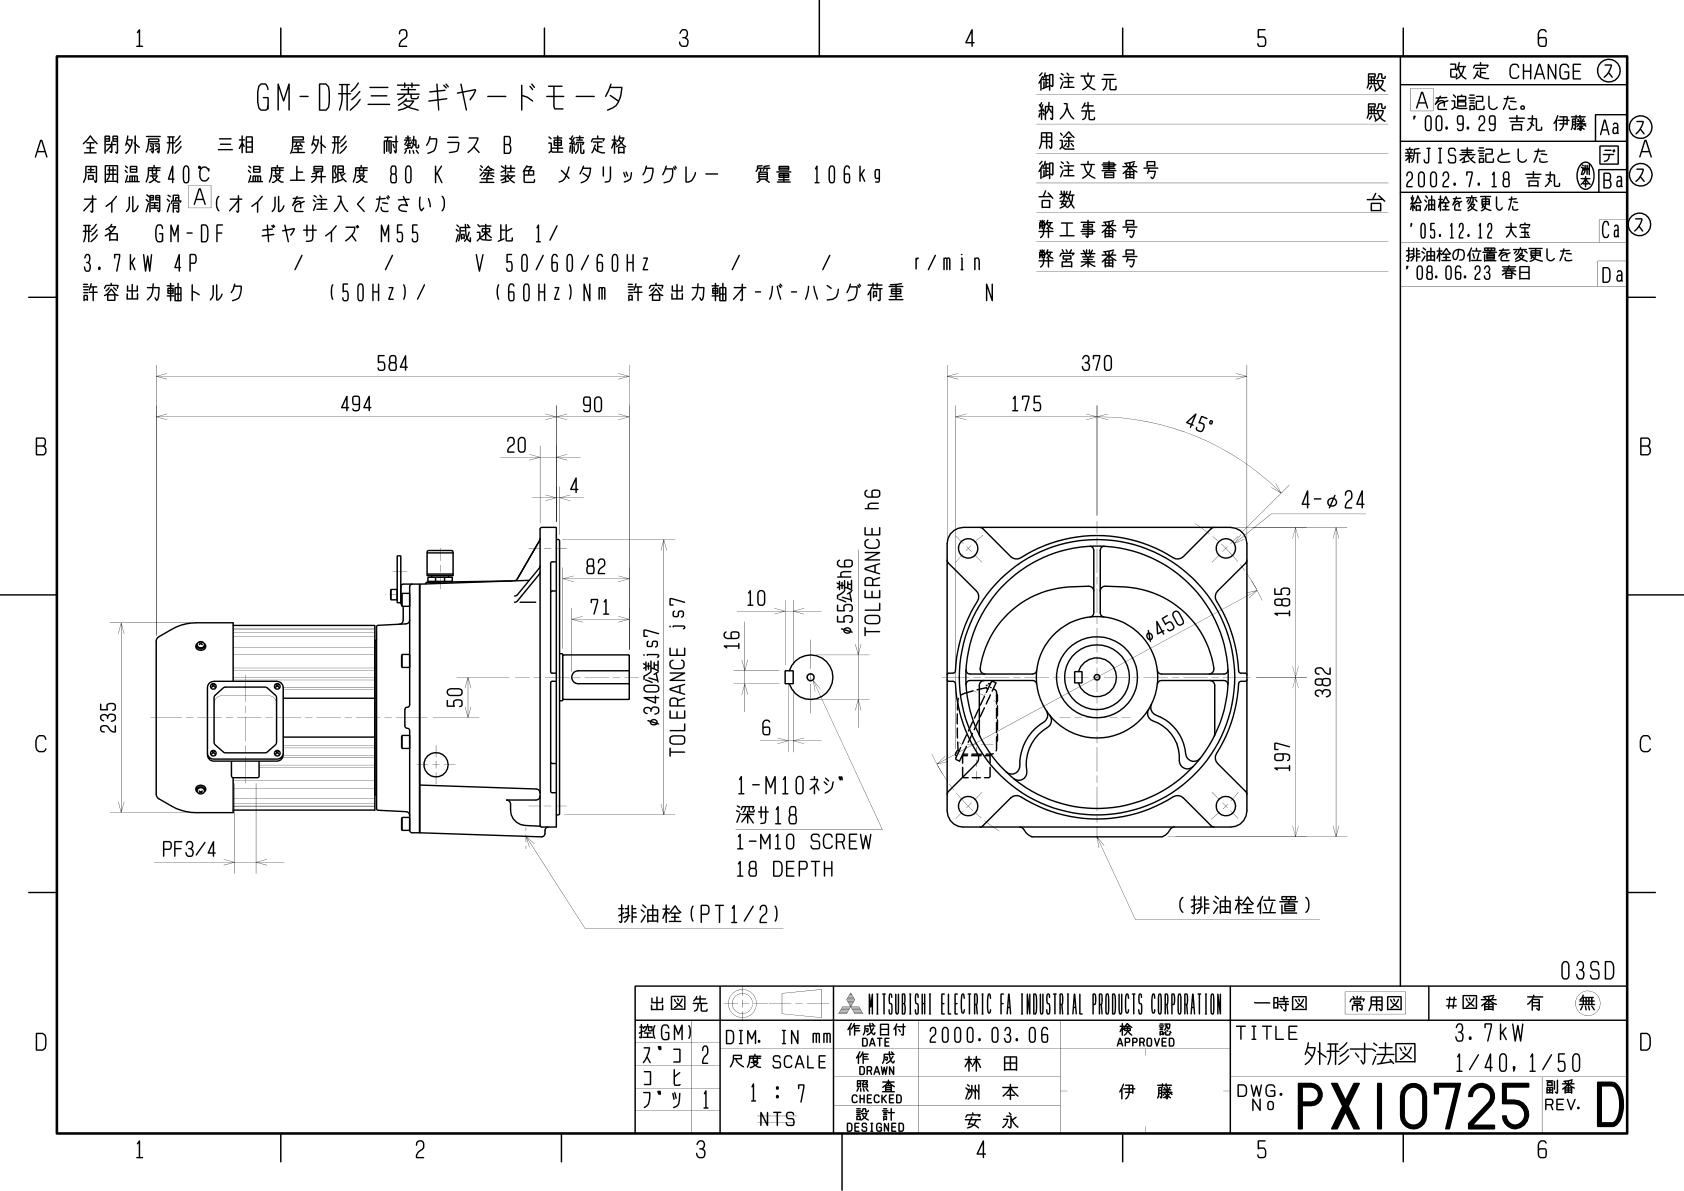GM_D_屋外＿三相_フランジ: (67, 324, 1363, 980)
